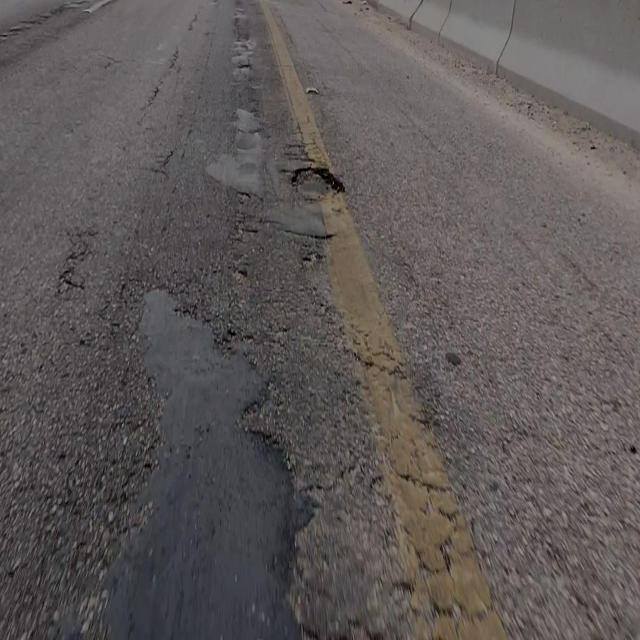Potholes: (289, 164, 346, 201)
